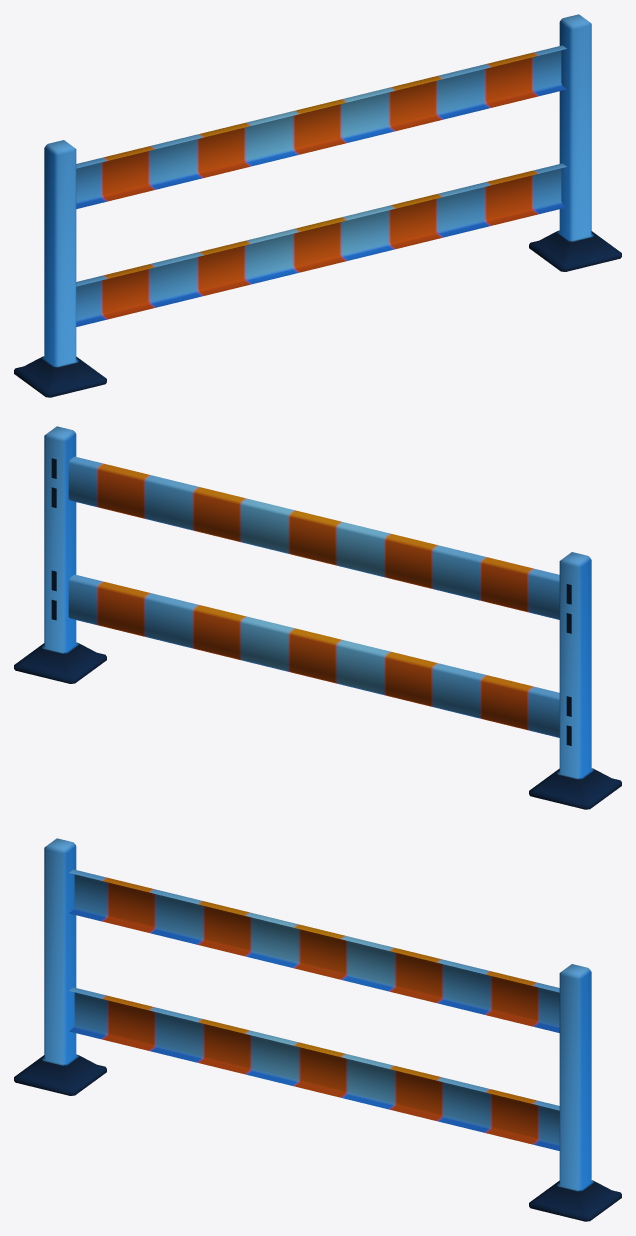
File: RoadWorksBarrier03Night.fbx
3 views of the same model, one above another, from view 1: azimuth 30°, elevation 25°; view 2: azimuth 150°, elevation 25°; view 3: azimuth 330°, elevation 25° (orthographic).
Parts seen in each view (by area): view 1: RoadWorksBarrier03Night; view 2: RoadWorksBarrier03Night; view 3: RoadWorksBarrier03Night.
Boxes of the visible parts, bbox=[...] form: RoadWorksBarrier03Night: bbox=[14, 14, 621, 397]; RoadWorksBarrier03Night: bbox=[14, 426, 621, 809]; RoadWorksBarrier03Night: bbox=[14, 838, 621, 1221].
Bounding box in the file's own units: 402 × 155 × 42.57.
